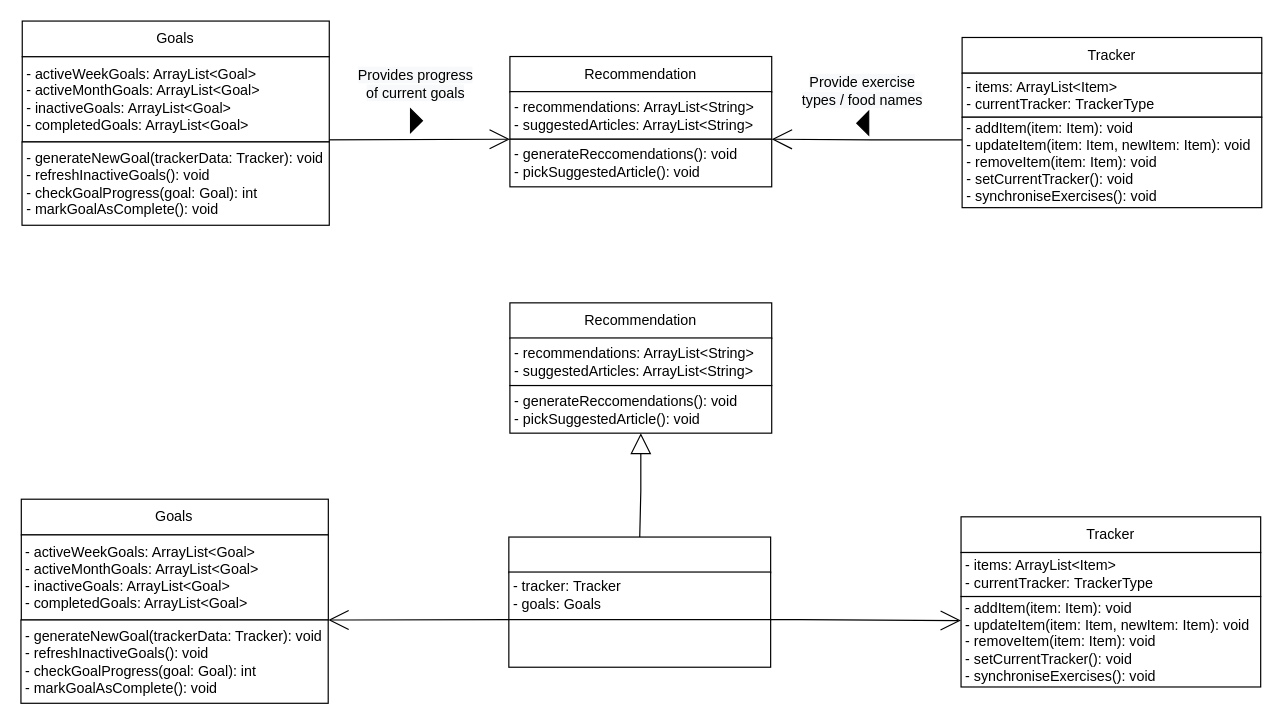
This 1283x725 diagram has some shape labels left out. The centre of each missing label's shape, as x and y in pixels:
- generateReccomendations(): void: point 639,642
RecommendationAdapter: point 639,554
